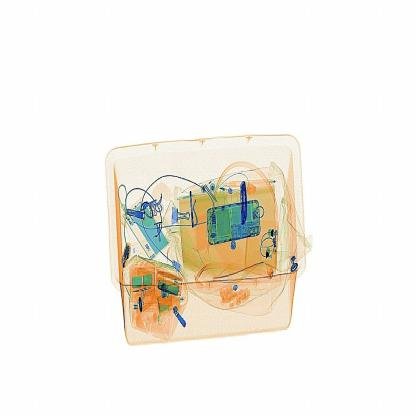knife: (235, 172, 260, 233)
